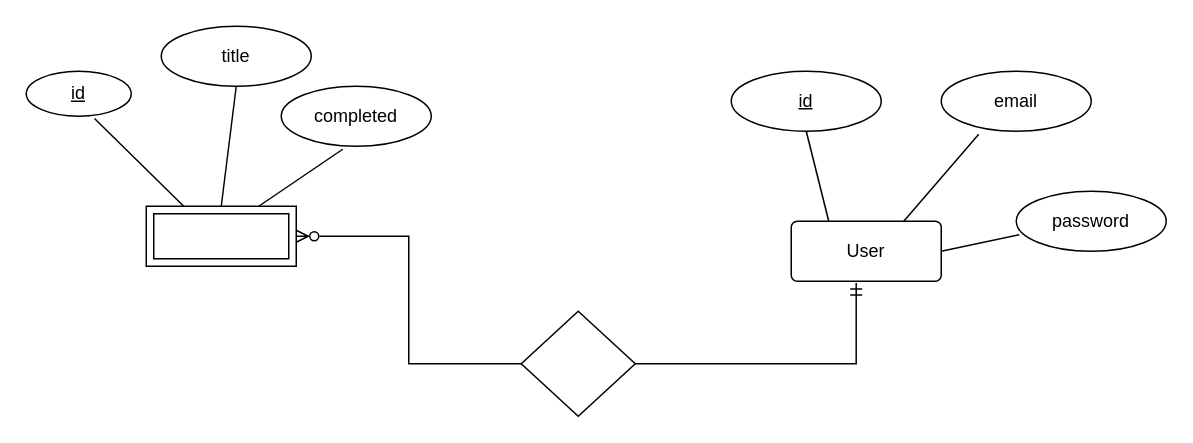
Some shapes in this 1193 by 443 pixel diagram are drawn without their labels. The shapes that lost their labels are listed below. From the top down, each one's centre as x and y in pixels, then its label:
the point at 220,235: Todo
the point at 577,363: has
